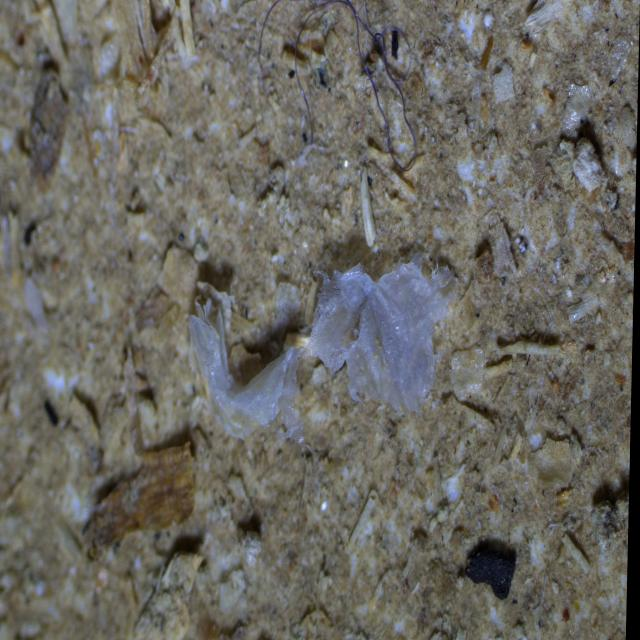microplastic: (166, 236, 480, 465)
